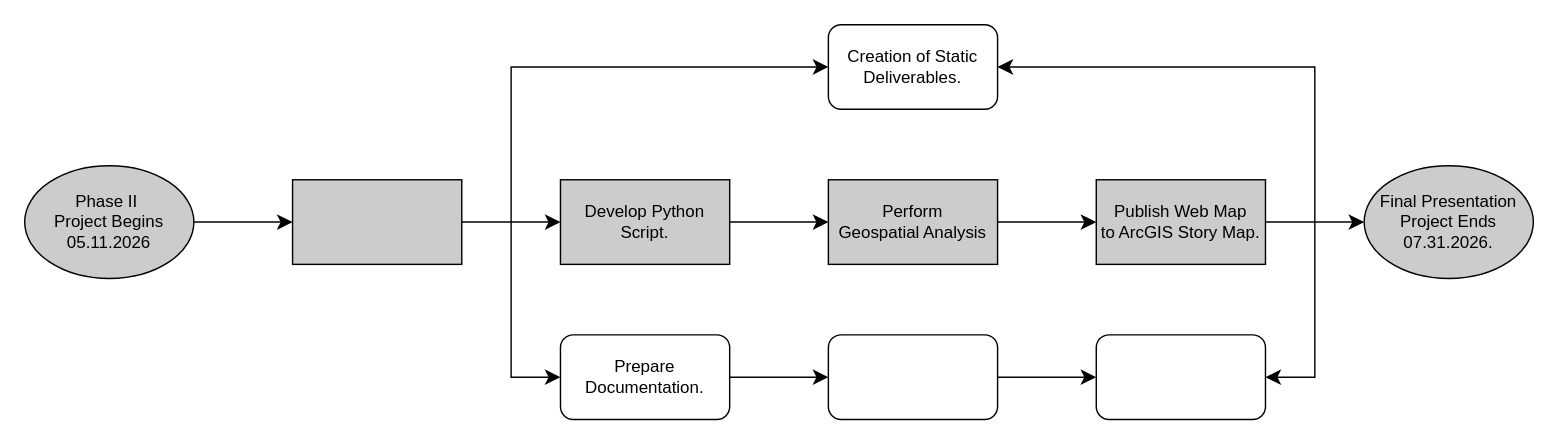
Image size: 1558x444. Some labels were removed from this diagram. Each missing label, with the centre of its shape:
"Gather Required Datasets." belongs at point (376, 221).
"Train Users." belongs at point (912, 376).
"Transfer Completed System to UCO." belongs at point (1180, 376).
